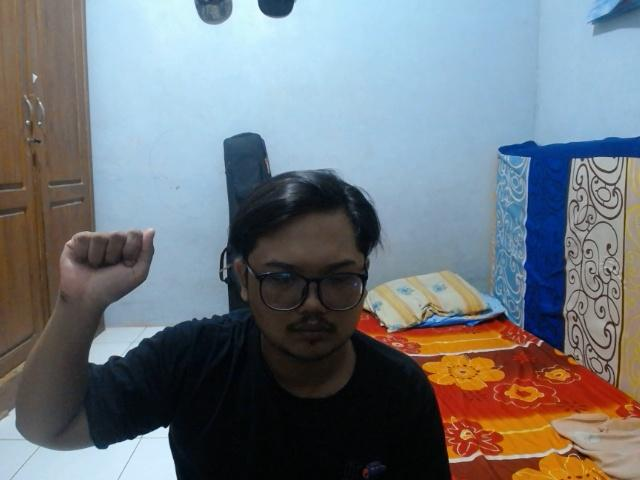Grab: (57, 226, 154, 314)
